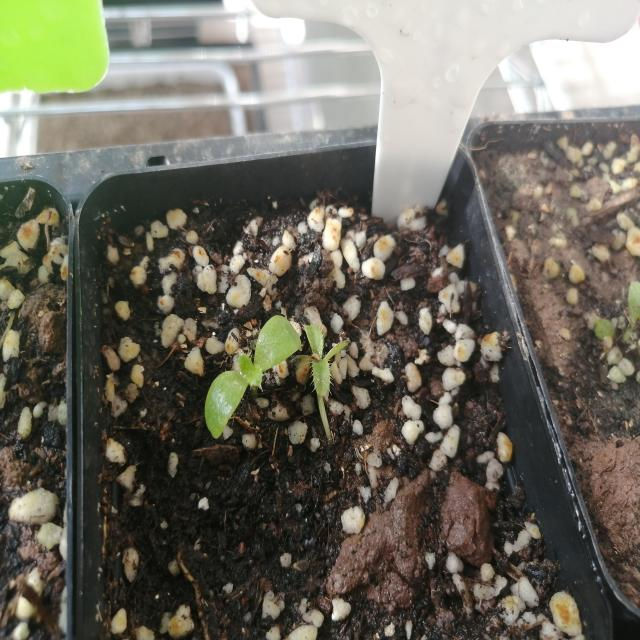field_thistle: (200, 317, 356, 448)
